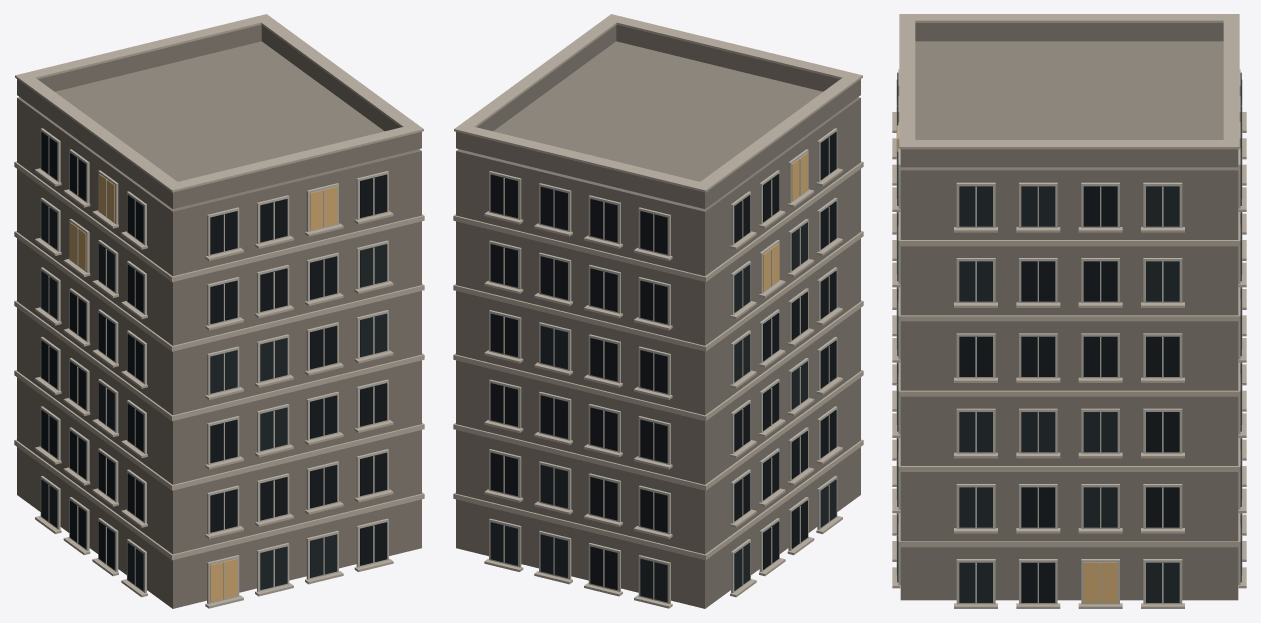
File: building_concrete_5f.glb
3 renders of one model, left to right at view 1: azimuth 30°, elevation 25°; view 2: azimuth 150°, elevation 25°; view 3: azimuth 270°, elevation 25°, orthographic. The views are drawn at different scales.
Visible parts, largest first — view 1: building_concrete_5f; view 2: building_concrete_5f; view 3: building_concrete_5f.
Boxes of the visible parts, bbox=[...] form: building_concrete_5f: bbox=[14, 14, 424, 608]; building_concrete_5f: bbox=[453, 14, 863, 608]; building_concrete_5f: bbox=[892, 14, 1246, 608].
Bounding box in the file's own units: 12.64 × 19.52 × 13.64.
